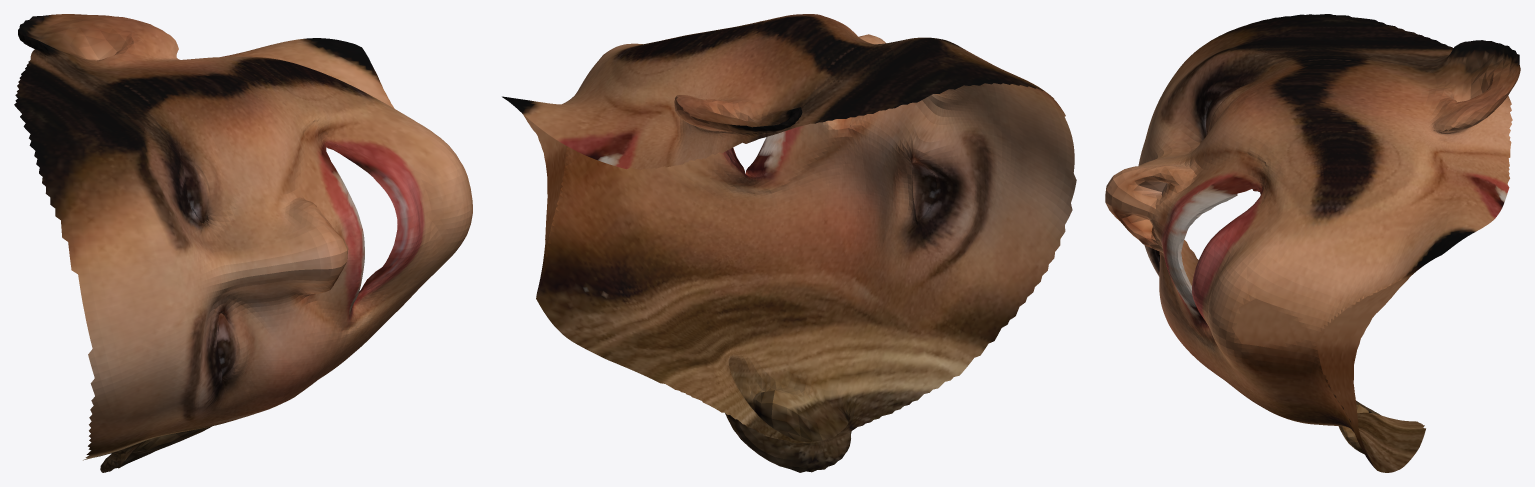
The model's file is imgHQ00000.obj.
3 views of the same model, side by side, from view 1: azimuth 30°, elevation 25°; view 2: azimuth 150°, elevation 25°; view 3: azimuth 270°, elevation 25° (orthographic). The views are drawn at different scales.
Bounding box in the file's own units: 785 × 711 × 695.
